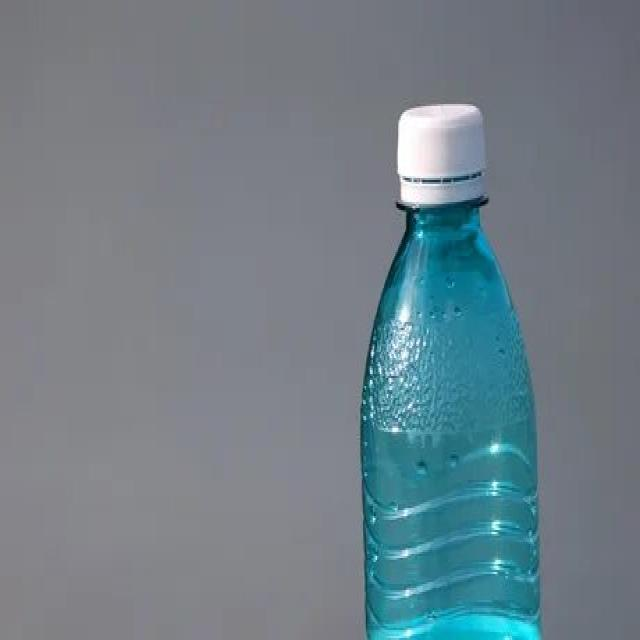blue: (361, 195, 539, 640)
